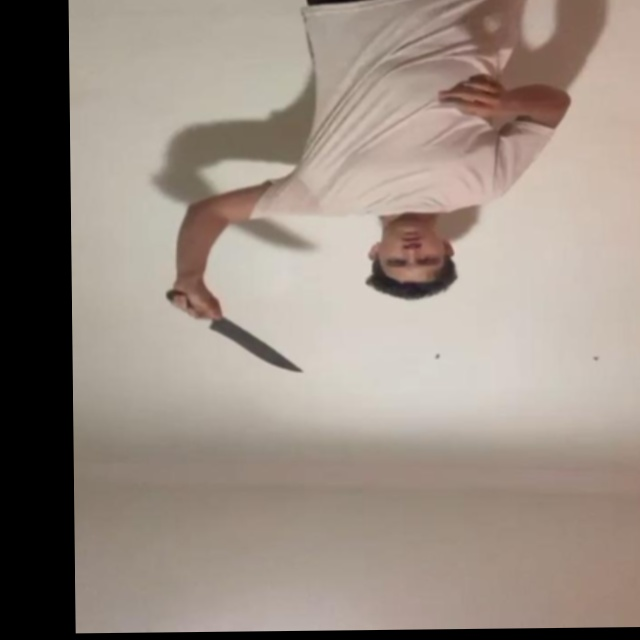Sharp-Object: (208, 323, 306, 373)
